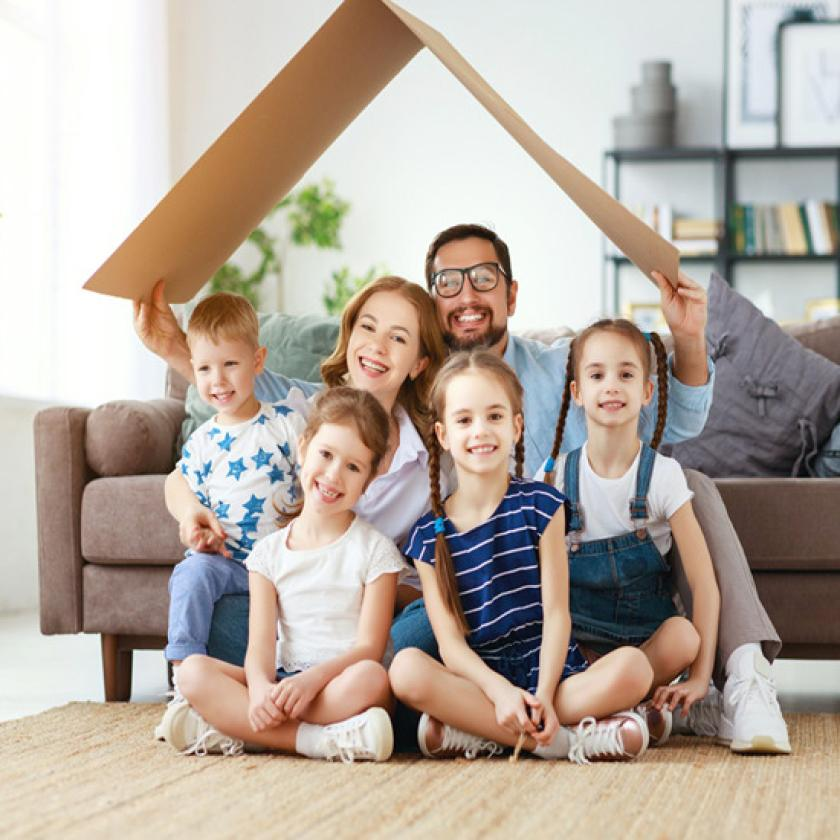Sin_casco: (286, 386, 397, 544), (429, 350, 539, 501), (422, 214, 530, 360), (566, 309, 666, 450), (347, 271, 438, 408), (182, 286, 271, 414)
